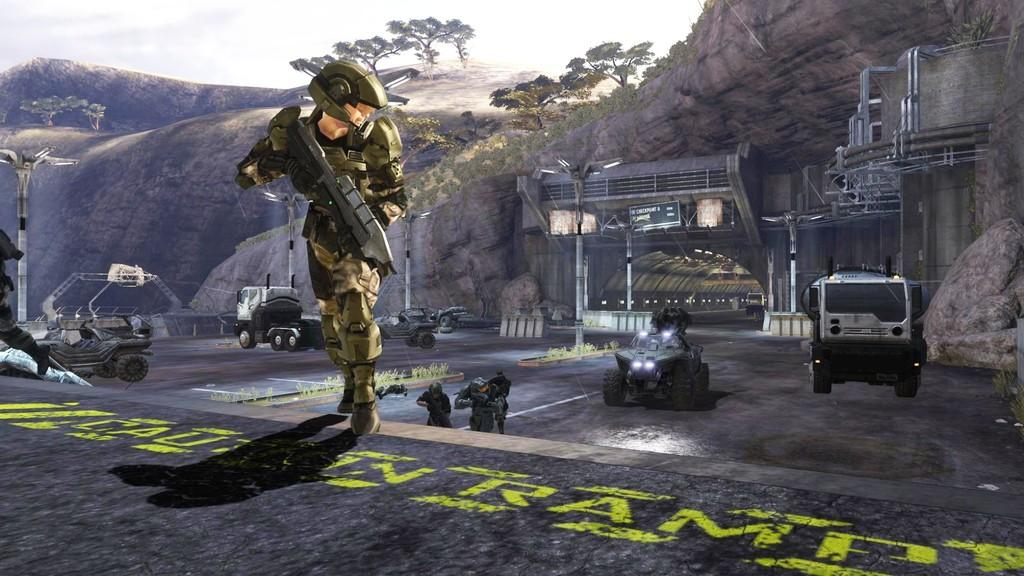non-violence: (234, 95, 408, 439), (457, 386, 507, 434), (416, 384, 453, 433), (494, 370, 514, 435)
weapon: (268, 102, 396, 274)
